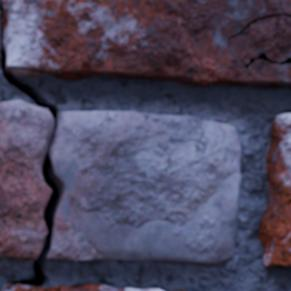brick: (3, 0, 290, 87), (260, 115, 290, 267), (2, 284, 160, 290)
broken_brick: (46, 111, 242, 267), (0, 99, 51, 260)
crack: (0, 2, 66, 288), (226, 13, 290, 42), (244, 53, 290, 70), (100, 258, 136, 262)
